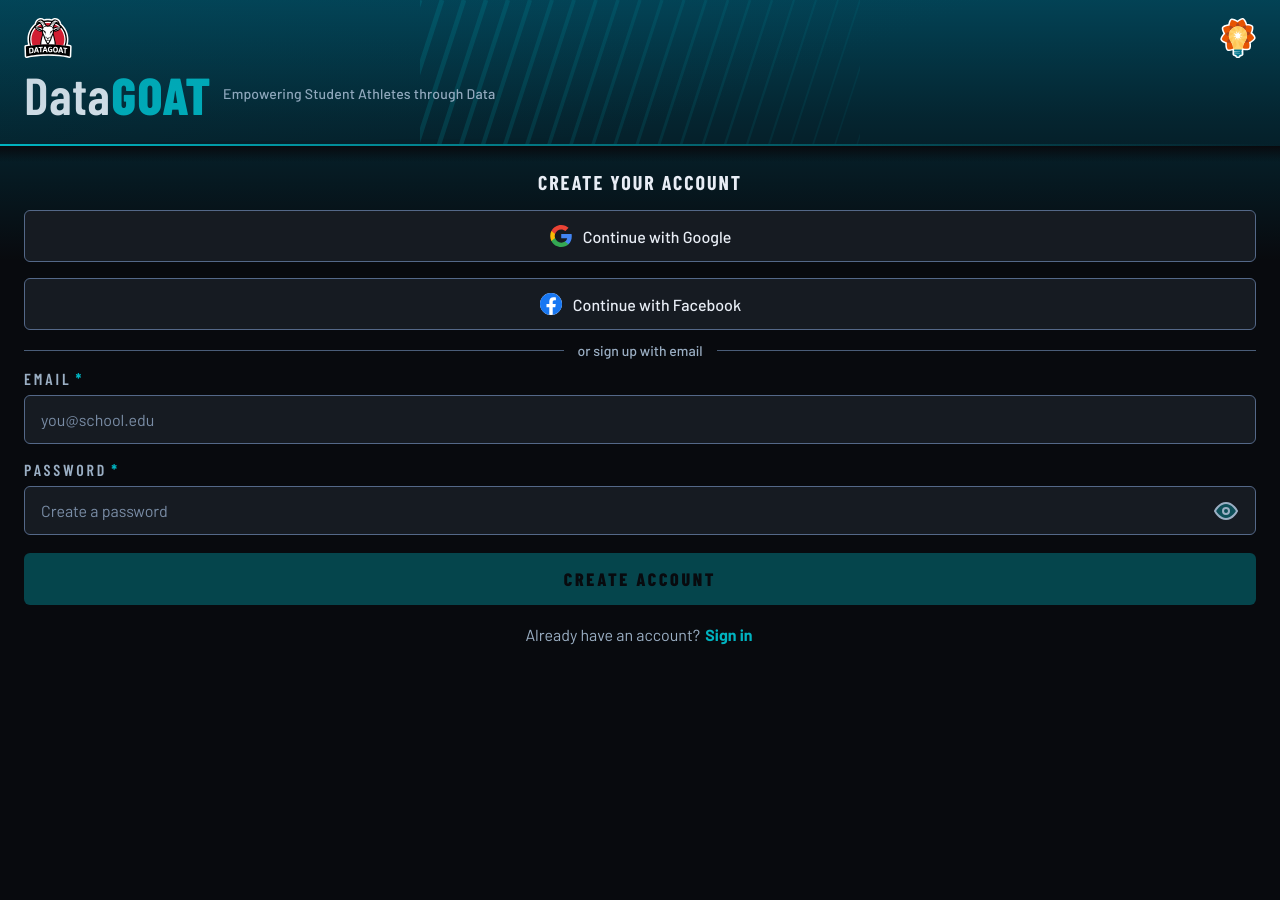
Test case: SignupForm › OAuth popup-blocked path renders the pinned authErrorMessages copy (parity with LoginForm)
Click the button "Continue with Google" at (640, 236), box [24, 210, 1256, 262]
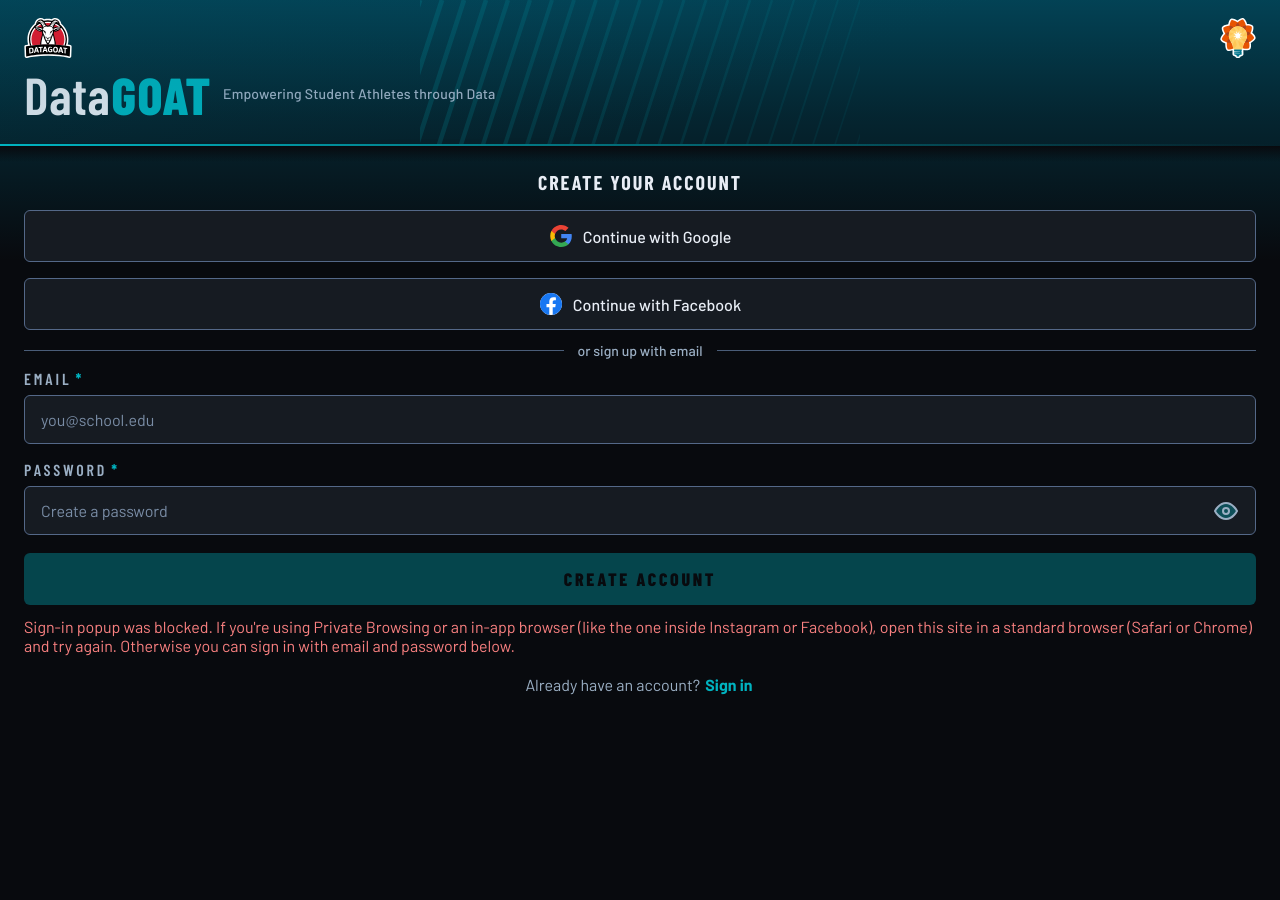
expect the text "Sign-in popup was blocked" is shown: met, box [24, 617, 1252, 655]
